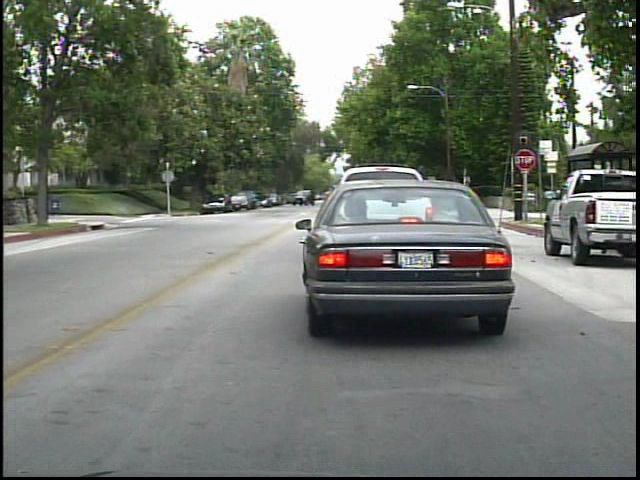person: (250, 188, 261, 213)
